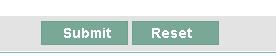button: (130, 19, 220, 47), (39, 19, 128, 46)
